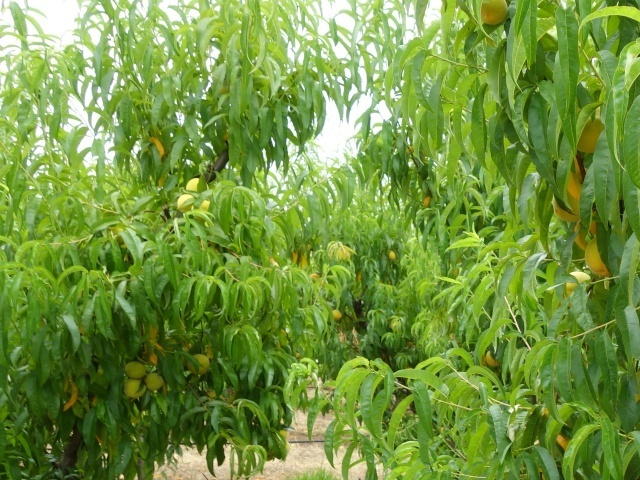peach: (578, 233, 610, 282), (477, 1, 511, 30), (184, 352, 212, 379), (118, 376, 147, 401), (172, 190, 198, 215), (121, 359, 148, 382), (143, 370, 167, 394), (183, 175, 209, 197)
